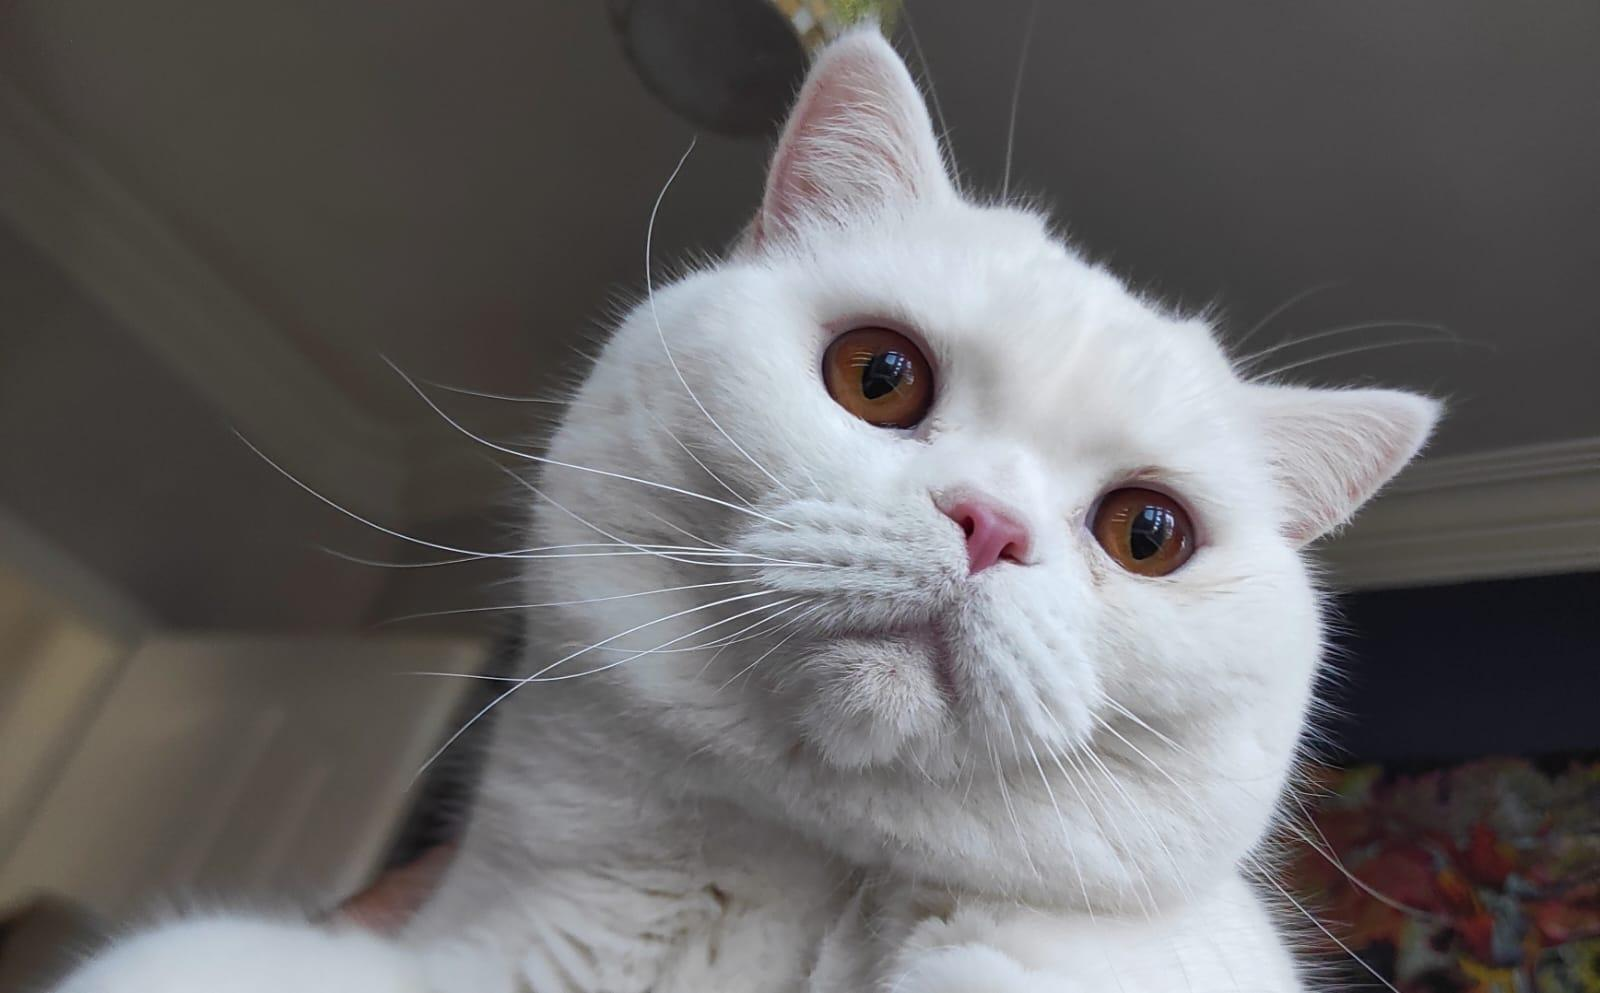kedo: (392, 29, 1434, 993)
